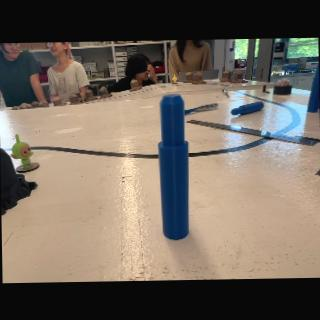teletubby: (11, 134, 33, 169), (172, 73, 178, 83)
